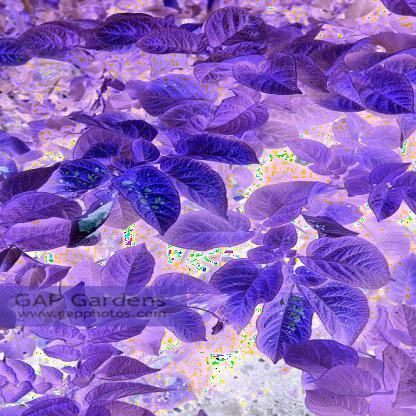Potato leaf early blight: (296, 232, 402, 294), (207, 260, 283, 334), (154, 155, 233, 218), (137, 74, 224, 118), (226, 53, 306, 98), (171, 132, 265, 168), (208, 96, 272, 136)
Potato leaf late blight: (111, 165, 186, 234), (270, 292, 315, 364), (53, 158, 120, 188)
